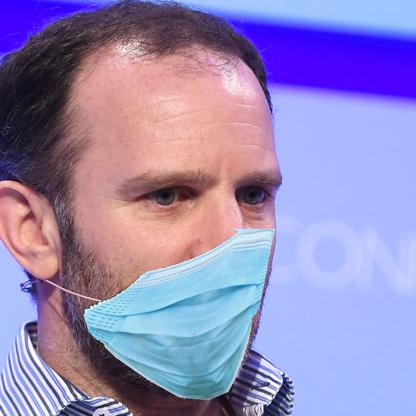mask: (81, 225, 277, 403)
